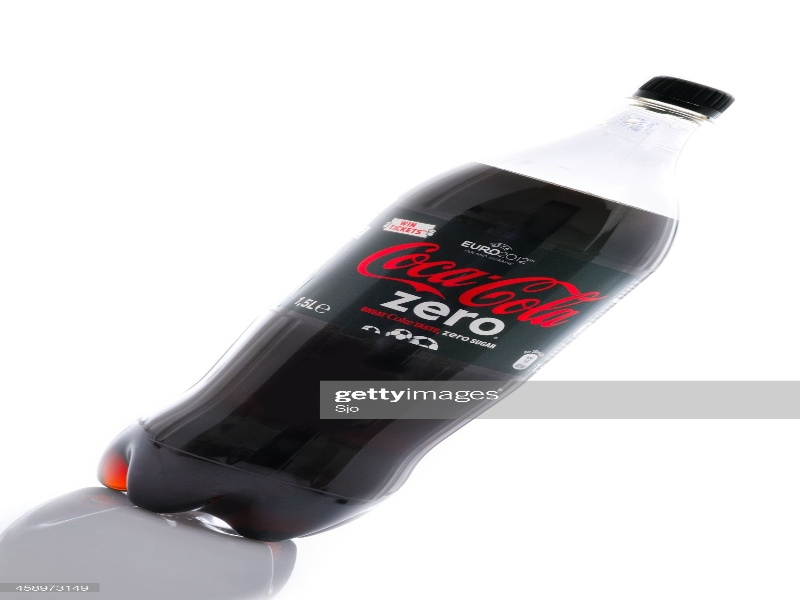coke-bottle-2l: (94, 73, 747, 528)
